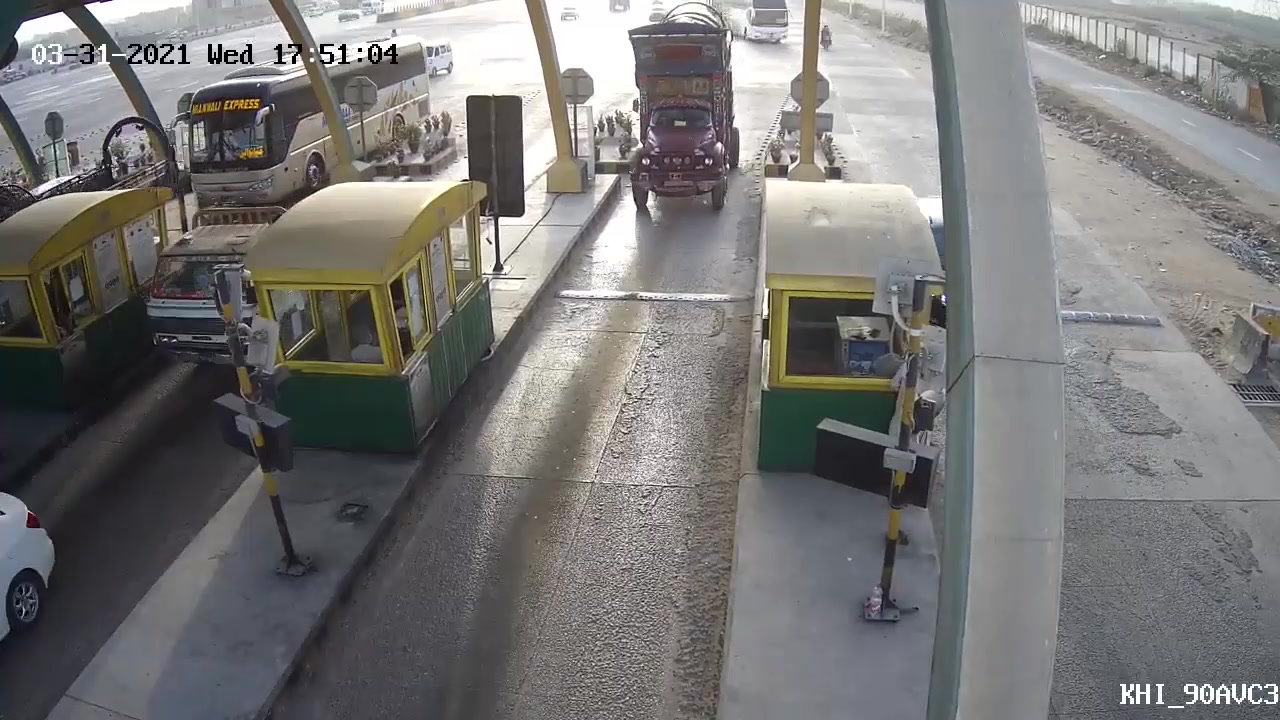F5: (604, 1, 752, 218)
